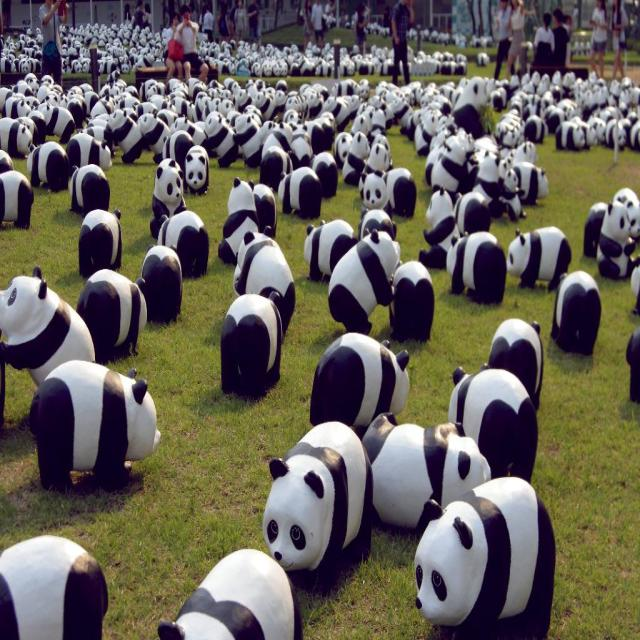panda: (0, 20, 640, 640), (418, 498, 540, 634)
